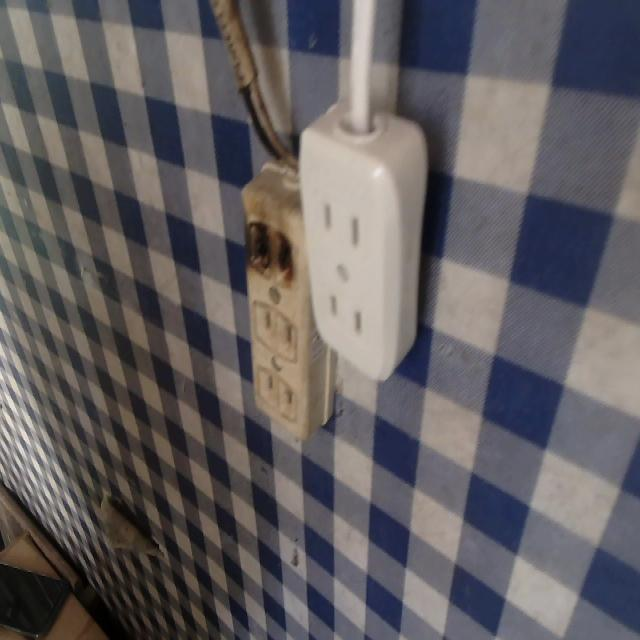-: (226, 216, 299, 277)
